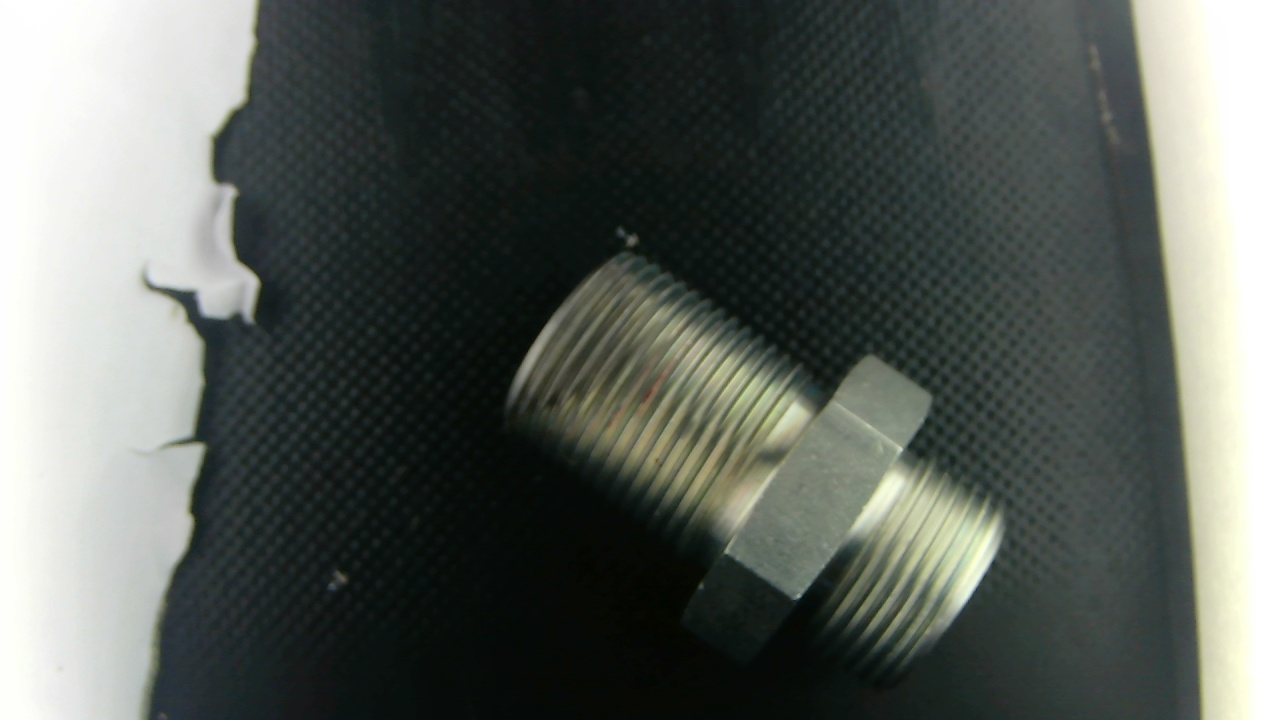blackpatch: (513, 269, 619, 427)
